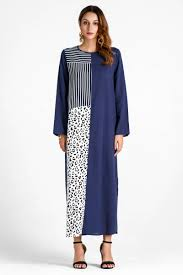middle_eastern_Female: (78, 7, 106, 43)
